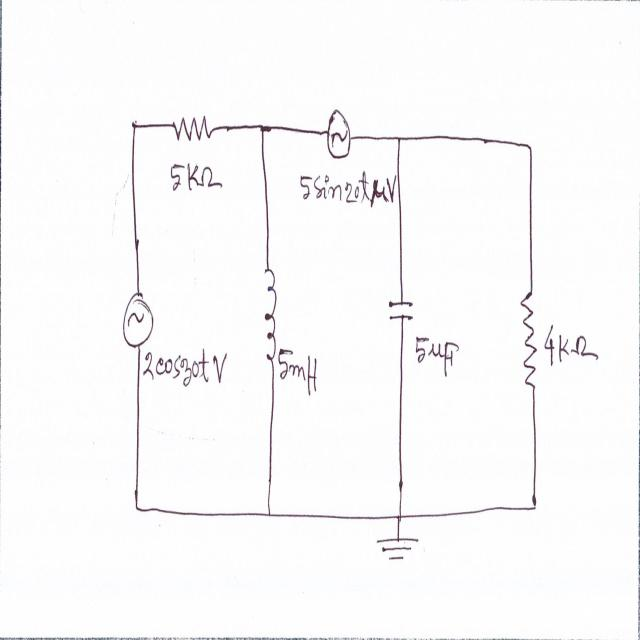ac_current: (118, 293, 157, 353), (324, 106, 354, 166)
capacitor: (386, 295, 419, 329)
ground: (370, 532, 428, 572)
inductor: (260, 266, 280, 366)
resistor: (519, 289, 540, 388), (170, 105, 214, 145)
